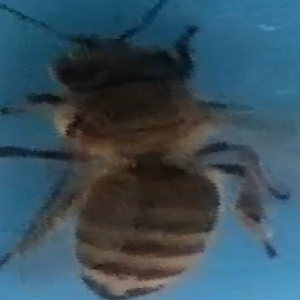bee: (7, 8, 290, 297)
